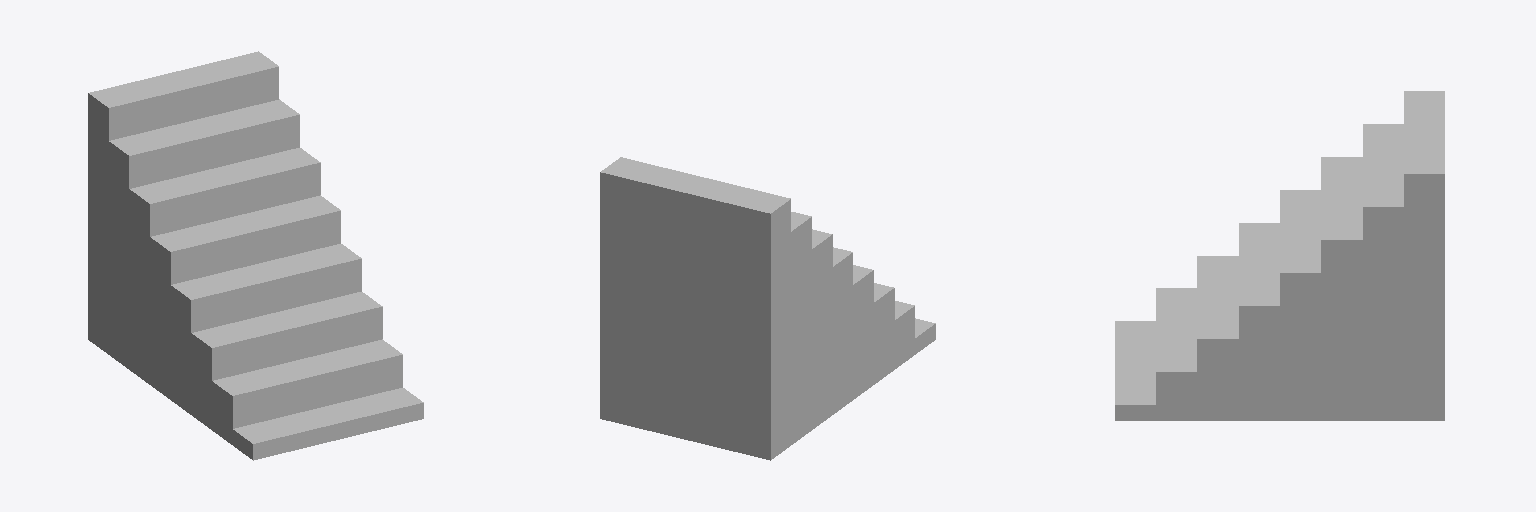
Rendered from stairs.obj.
3 renders of one model, left to right at view 1: azimuth 30°, elevation 25°; view 2: azimuth 150°, elevation 25°; view 3: azimuth 270°, elevation 25°, orthographic.
Visible parts, largest first — view 1: pCube7; view 2: pCube7; view 3: pCube7.
Part boxes in pixels (bbox=[...]): pCube7: bbox=[88, 51, 423, 460]; pCube7: bbox=[600, 157, 935, 460]; pCube7: bbox=[1115, 91, 1444, 420].
Size of the model in its own units: 0.6763 by 0.9348 by 1.13.